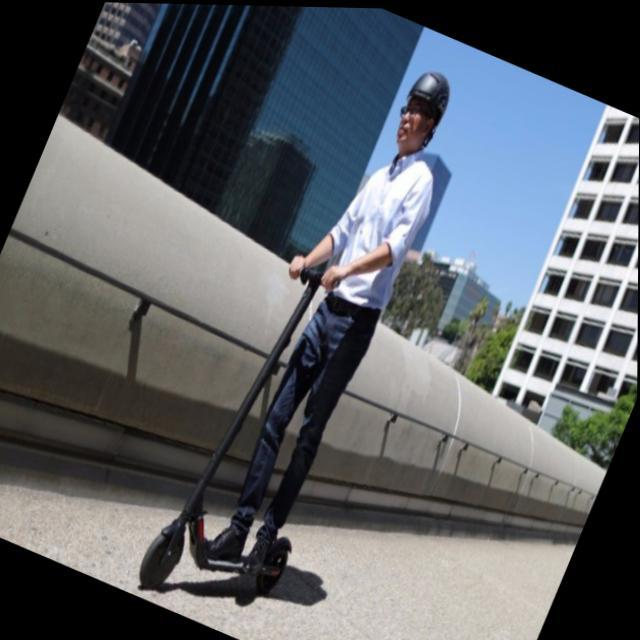Helmet: (392, 66, 453, 153)
